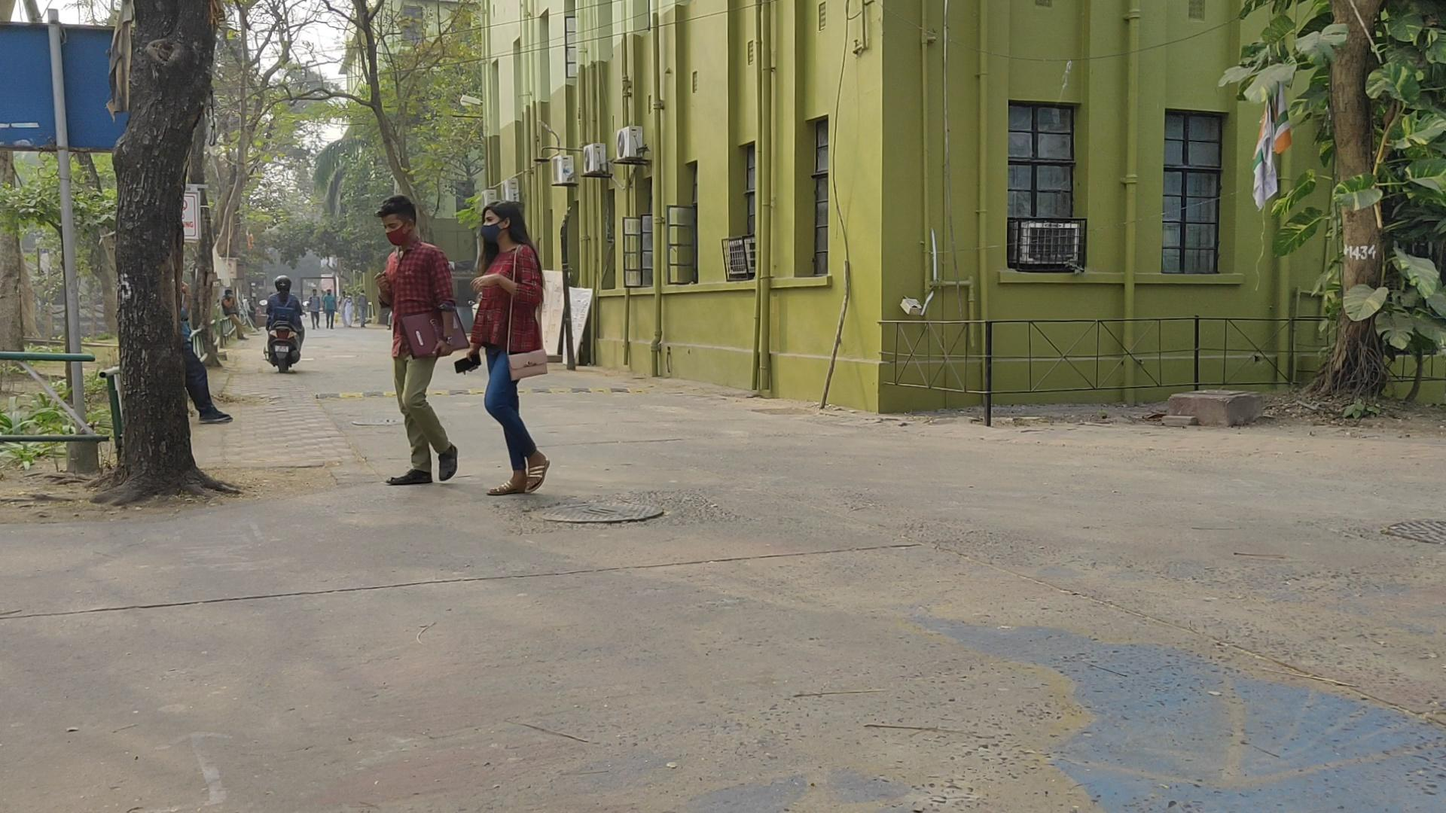bike: (261, 273, 310, 373)
